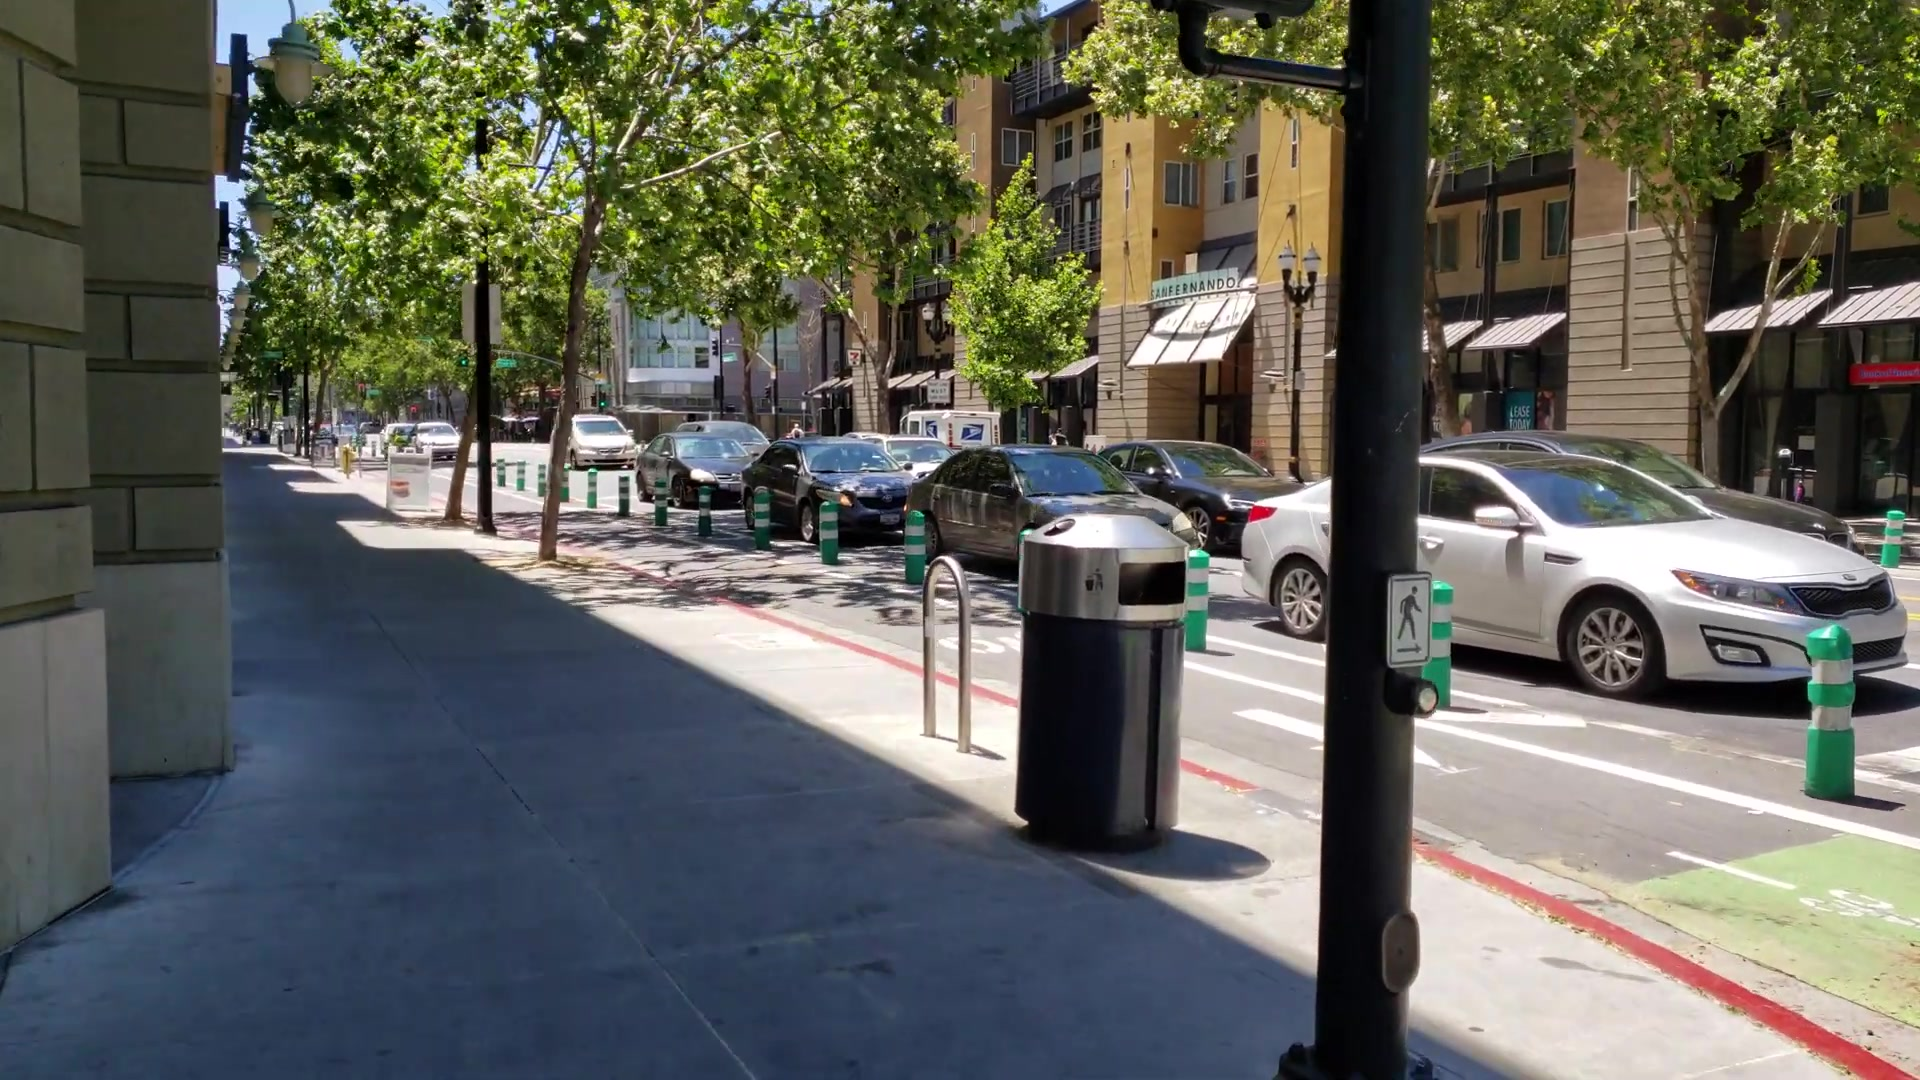vehicle: (1244, 451, 1905, 698), (744, 435, 913, 541), (632, 433, 742, 512)
